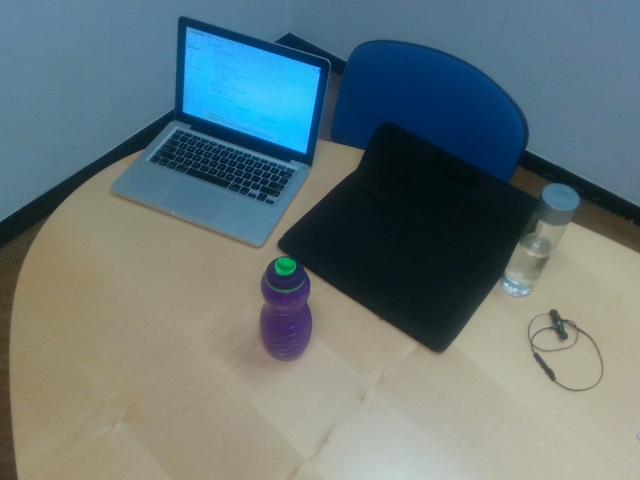bottle: (259, 255, 311, 361)
